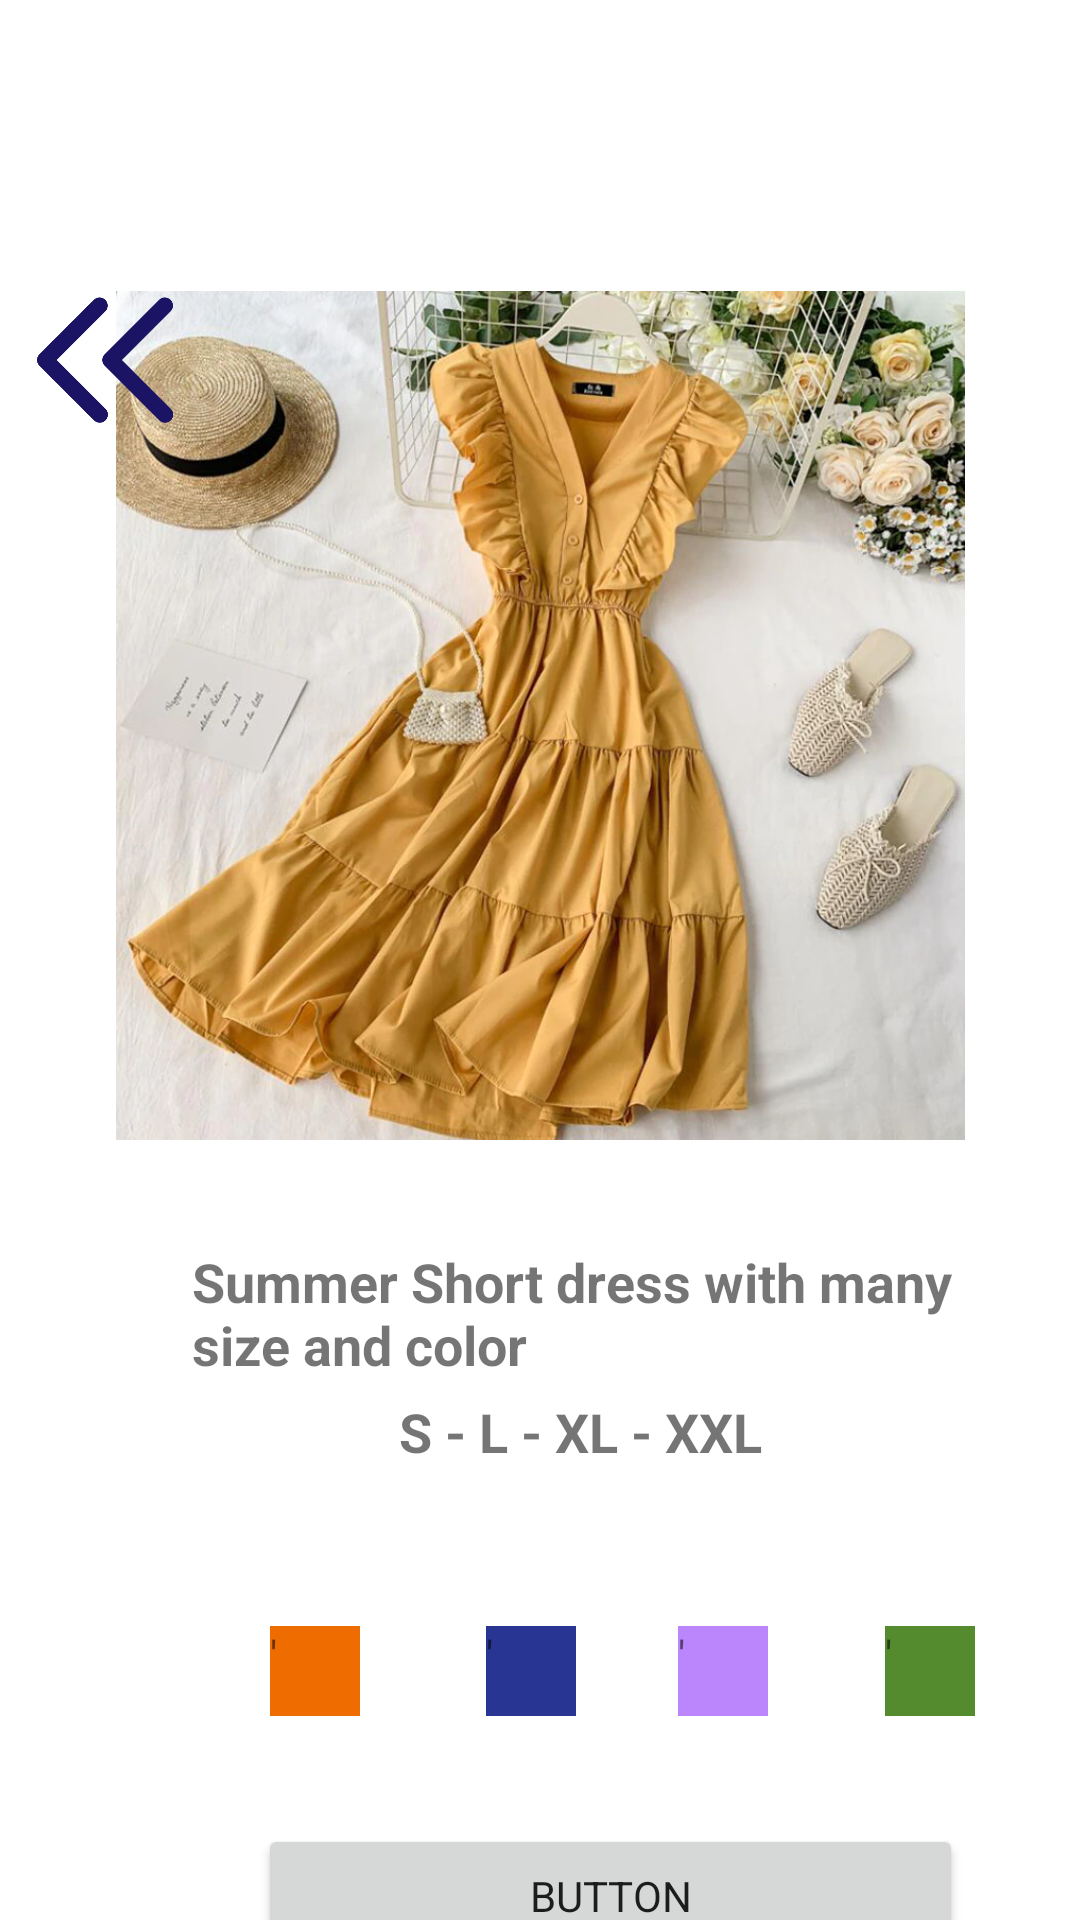

Icons on this 1080px×1920px Android screen, each with the point to tap as point (x, y):
back: point (114, 372)
